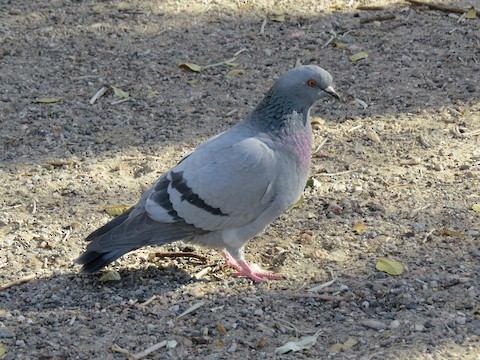pigeon: (74, 59, 358, 287)
